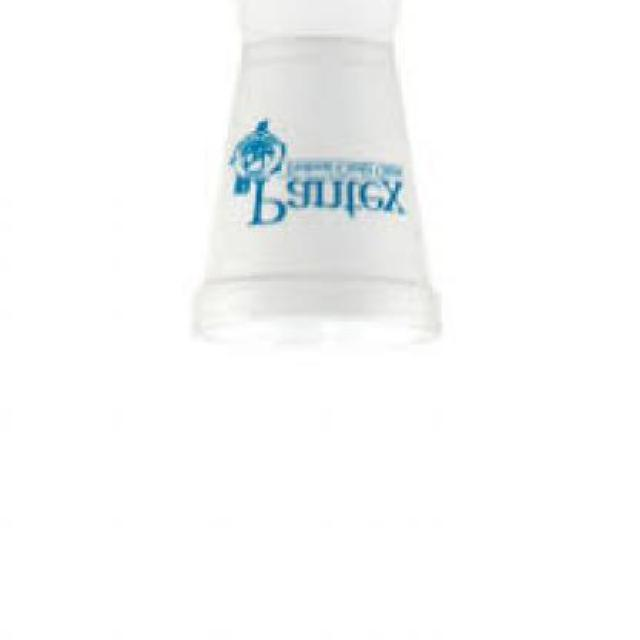PAPER: (191, 33, 435, 344)
